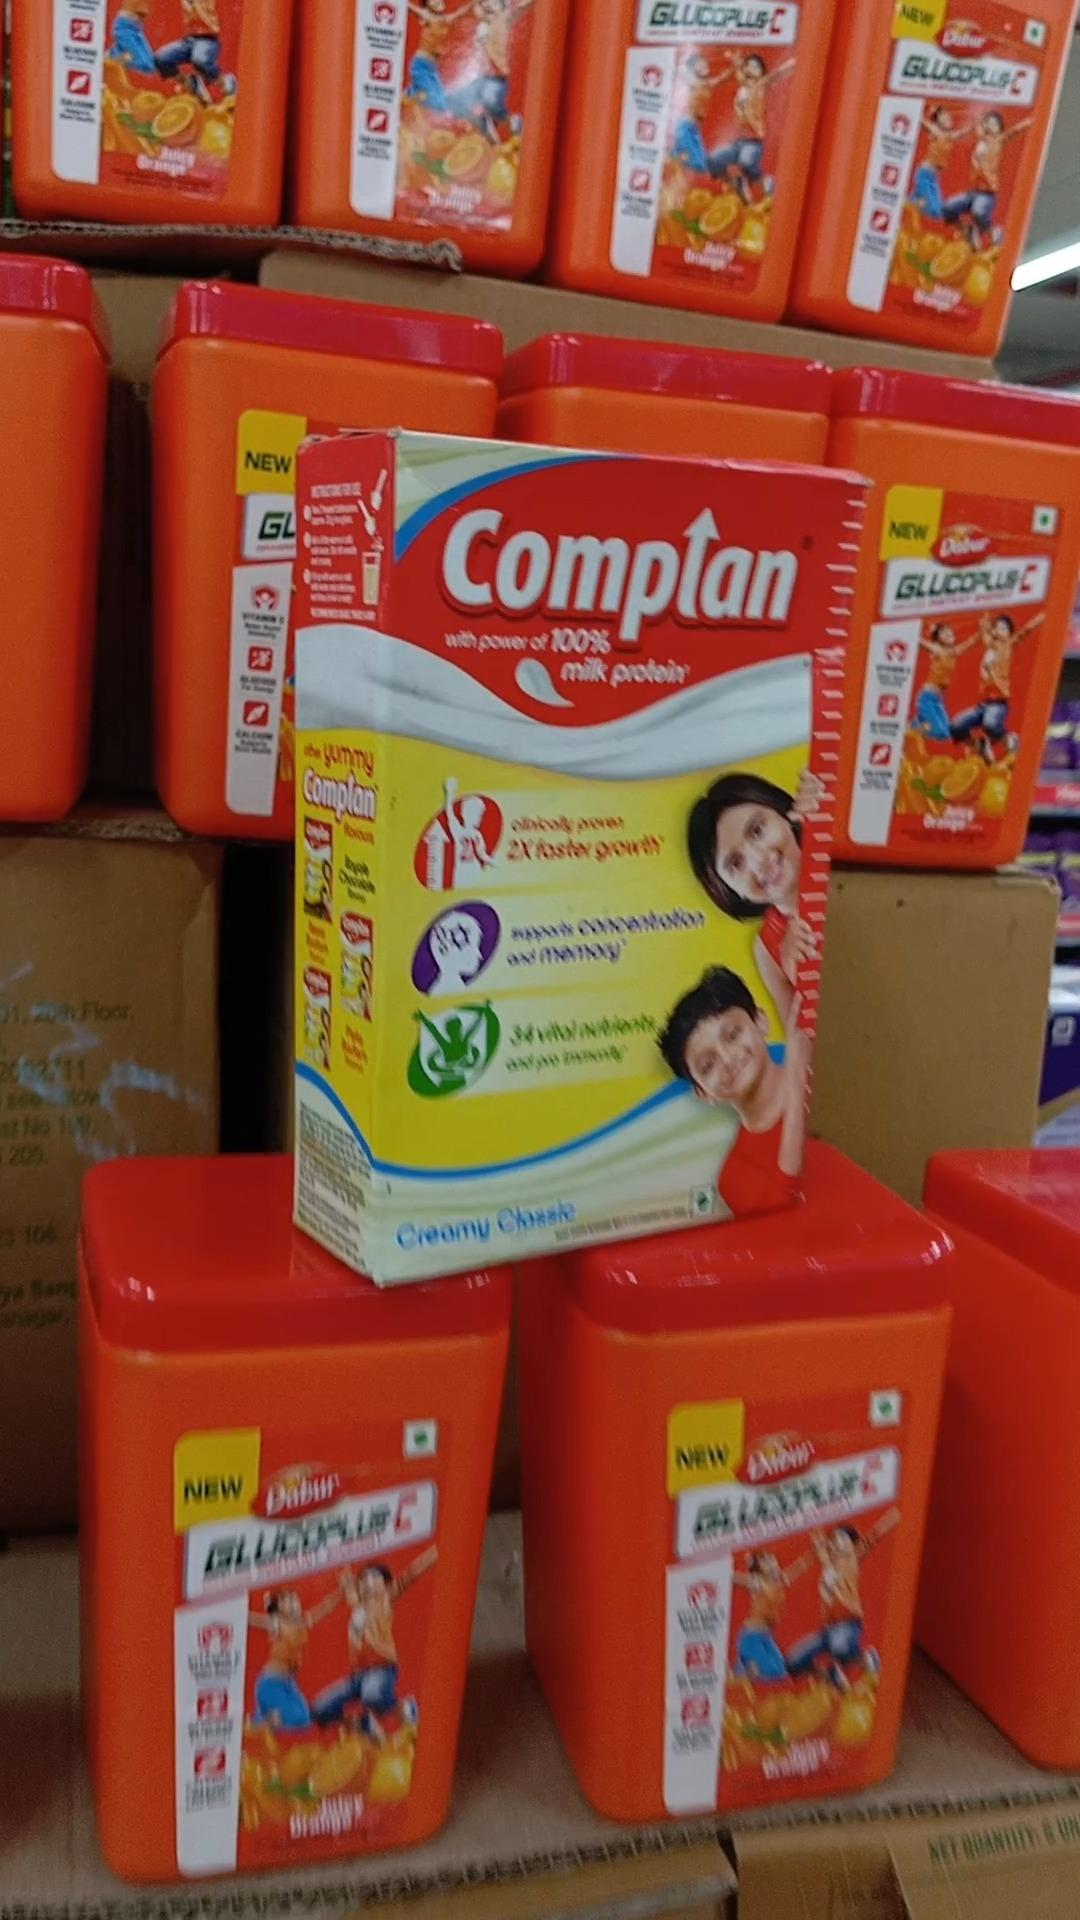COMPLAN_CREAMY_CLASSIC_500_G_PACK: (363, 419, 824, 1250)
